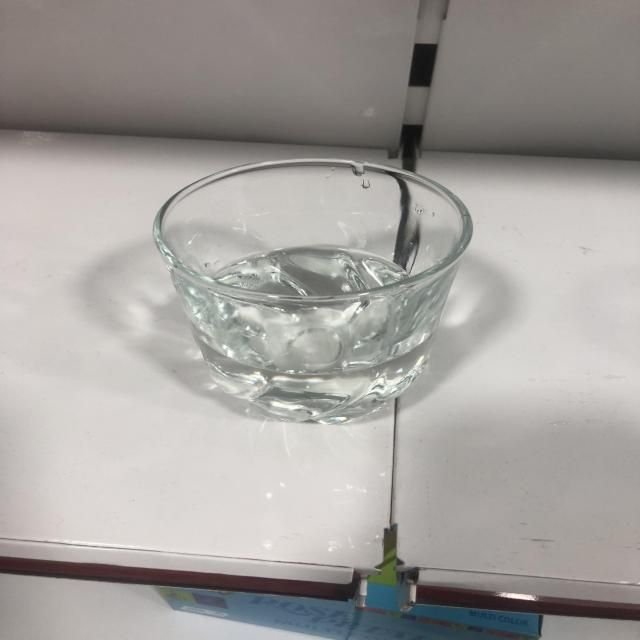glass-normal: (148, 153, 478, 427)
